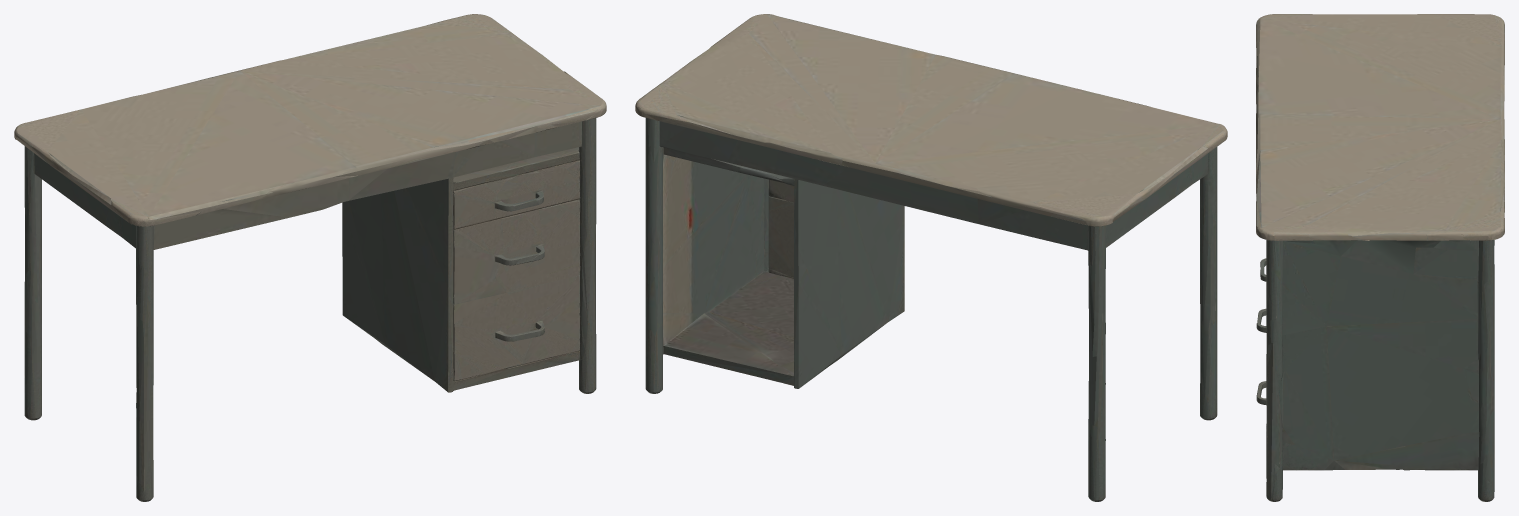
The model's file is scrivania_A.glb.
The picture shows the model from 3 angles, left to right: view 1: azimuth 30°, elevation 25°; view 2: azimuth 150°, elevation 25°; view 3: azimuth 270°, elevation 25°; orthographic projection. The views are drawn at different scales.
Visible parts, largest first — view 1: Mesh_0; view 2: Mesh_0; view 3: Mesh_0.
Boxes of the visible parts, x1,y1,x2,y2 form: Mesh_0: (14, 14, 606, 501); Mesh_0: (635, 14, 1227, 501); Mesh_0: (1256, 14, 1504, 501).
Size of the model in its own units: 1.4 by 0.812 by 0.6677.
Materials: 1 (1 with a texture image).
